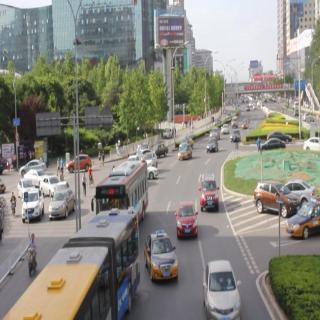BigCar: (18, 202, 143, 320), (96, 153, 150, 227)
Car: (194, 241, 242, 320), (142, 228, 178, 280), (253, 179, 296, 216), (173, 199, 199, 251), (196, 162, 220, 215), (280, 176, 312, 208), (64, 143, 95, 176), (45, 190, 74, 218), (21, 186, 44, 221), (38, 173, 61, 200), (20, 158, 46, 180), (14, 176, 37, 197), (203, 136, 224, 156), (177, 146, 192, 166), (228, 126, 242, 145)
